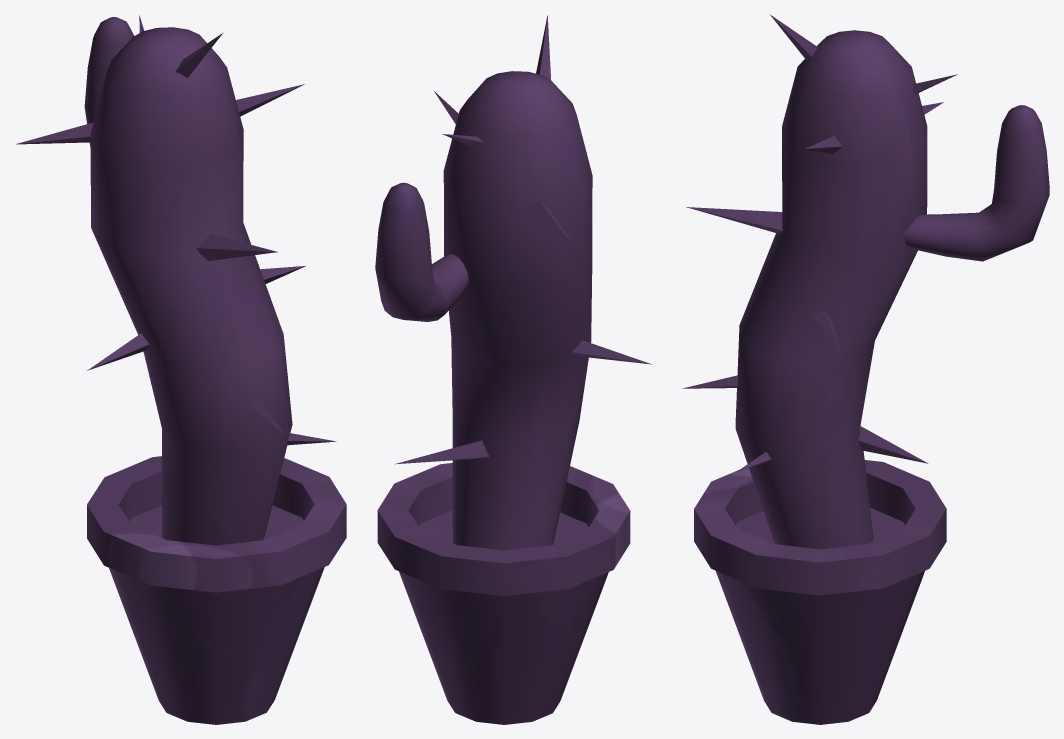
The model's file is cact2.fbx.
The picture shows the model from 3 angles, left to right: view 1: azimuth 30°, elevation 25°; view 2: azimuth 150°, elevation 25°; view 3: azimuth 270°, elevation 25°; orthographic projection. The views are drawn at different scales.
Visible parts, largest first — view 1: pCone50; view 2: pCone50; view 3: pCone50.
Part boxes in pixels (x1,y1,x2,y2): pCone50: (16, 15, 346, 724); pCone50: (375, 15, 652, 724); pCone50: (682, 14, 1049, 724).
Size of the model in its own units: 2.86 by 7.42 by 3.66.
